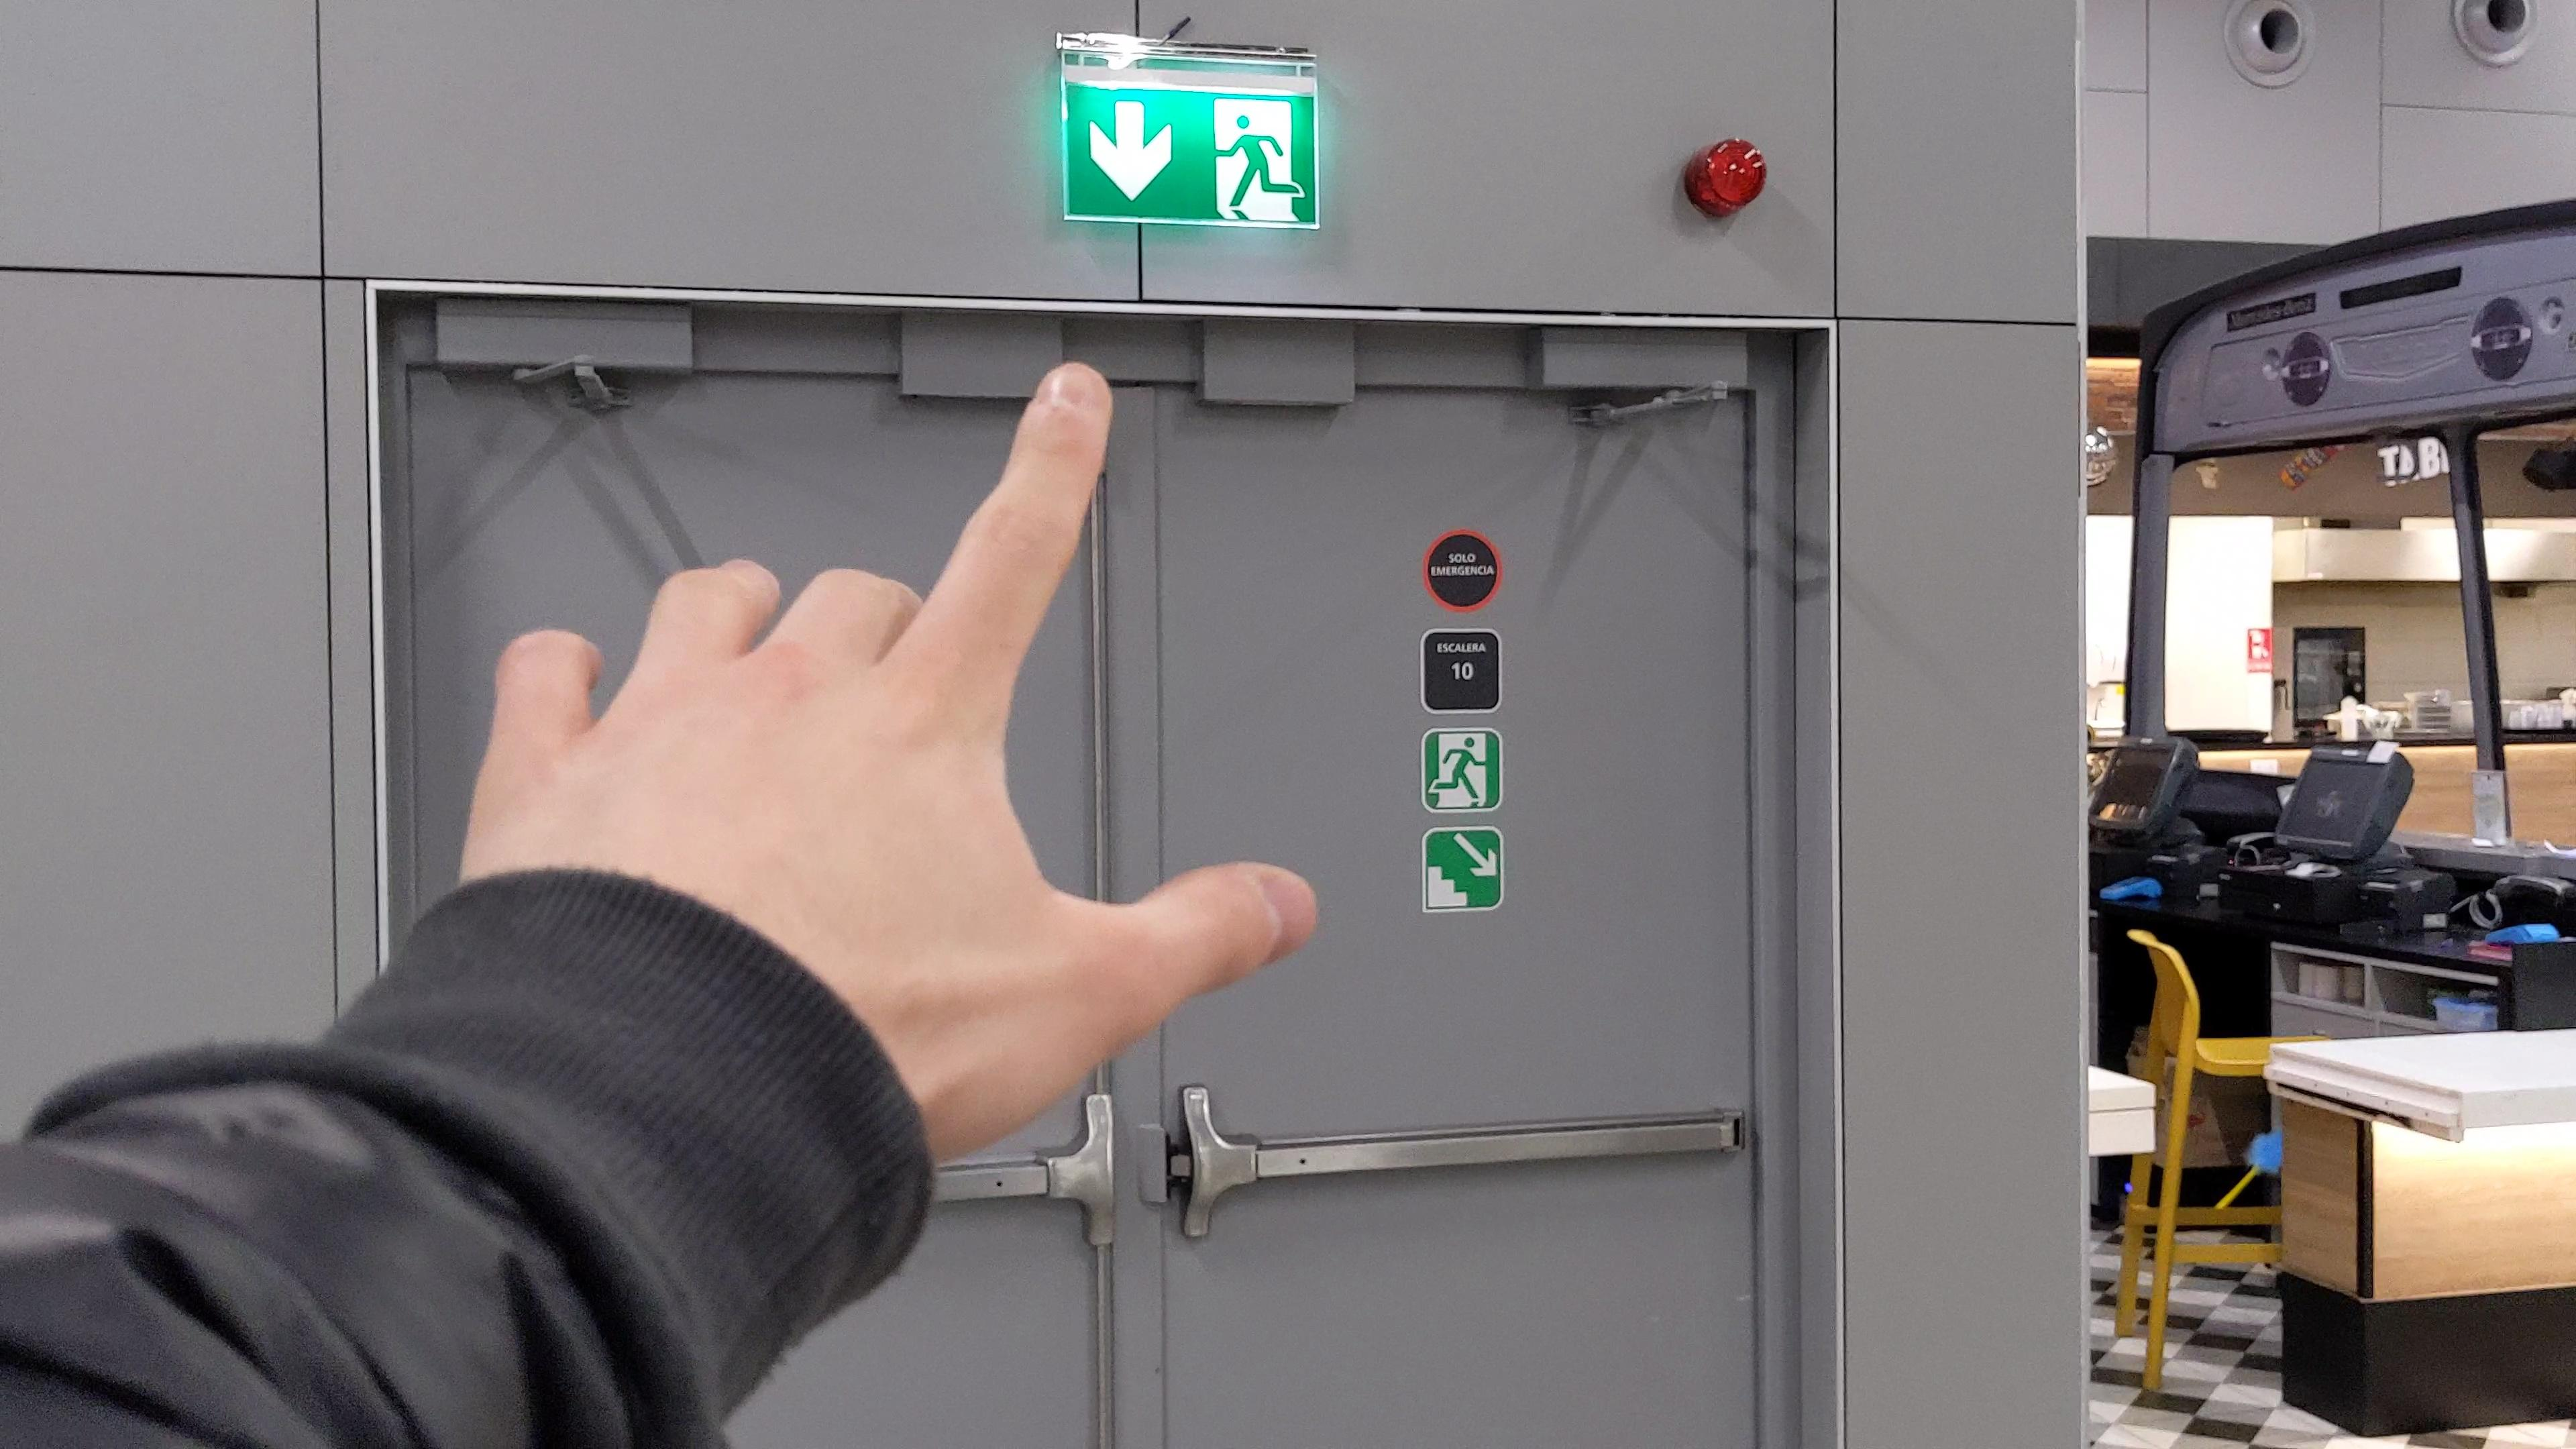emergency down arrow: (1086, 97, 1175, 203)
emergency exit: (1203, 94, 1309, 228), (1428, 731, 1493, 810)
